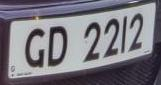1: (118, 14, 131, 56)
2: (81, 19, 102, 65), (101, 16, 121, 60), (128, 10, 146, 52)
D: (46, 22, 71, 70)
G: (24, 25, 47, 70)
